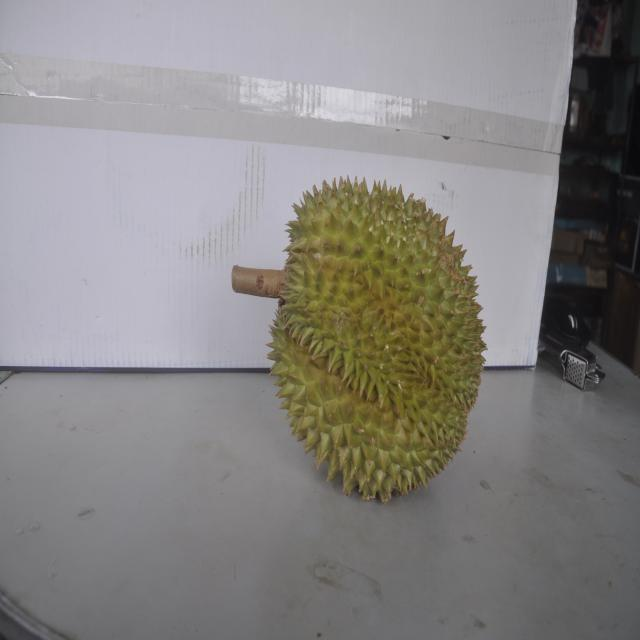mature: (262, 172, 481, 501)
